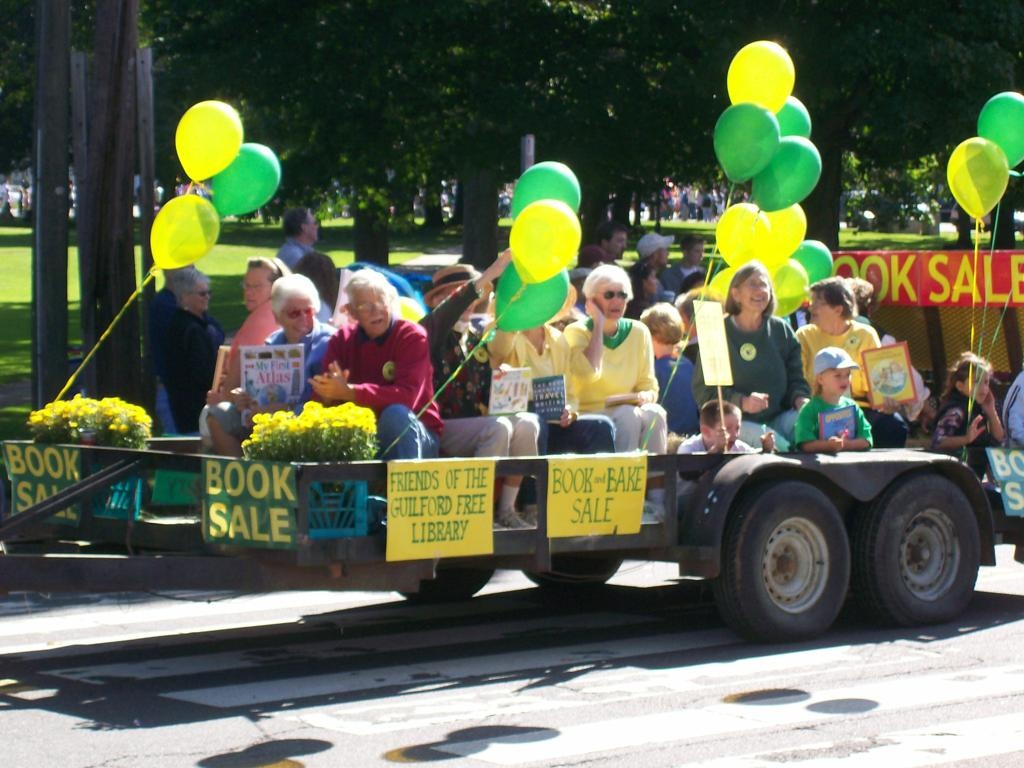human_face: (352, 288, 390, 336), (740, 272, 772, 312), (240, 271, 270, 313), (280, 299, 312, 335), (804, 289, 836, 325), (438, 284, 474, 314), (714, 414, 740, 454), (599, 283, 627, 319), (965, 371, 991, 407), (826, 368, 852, 398), (301, 211, 321, 243), (190, 281, 210, 311), (640, 269, 660, 297), (610, 232, 628, 260), (652, 242, 670, 270), (689, 242, 705, 266)
